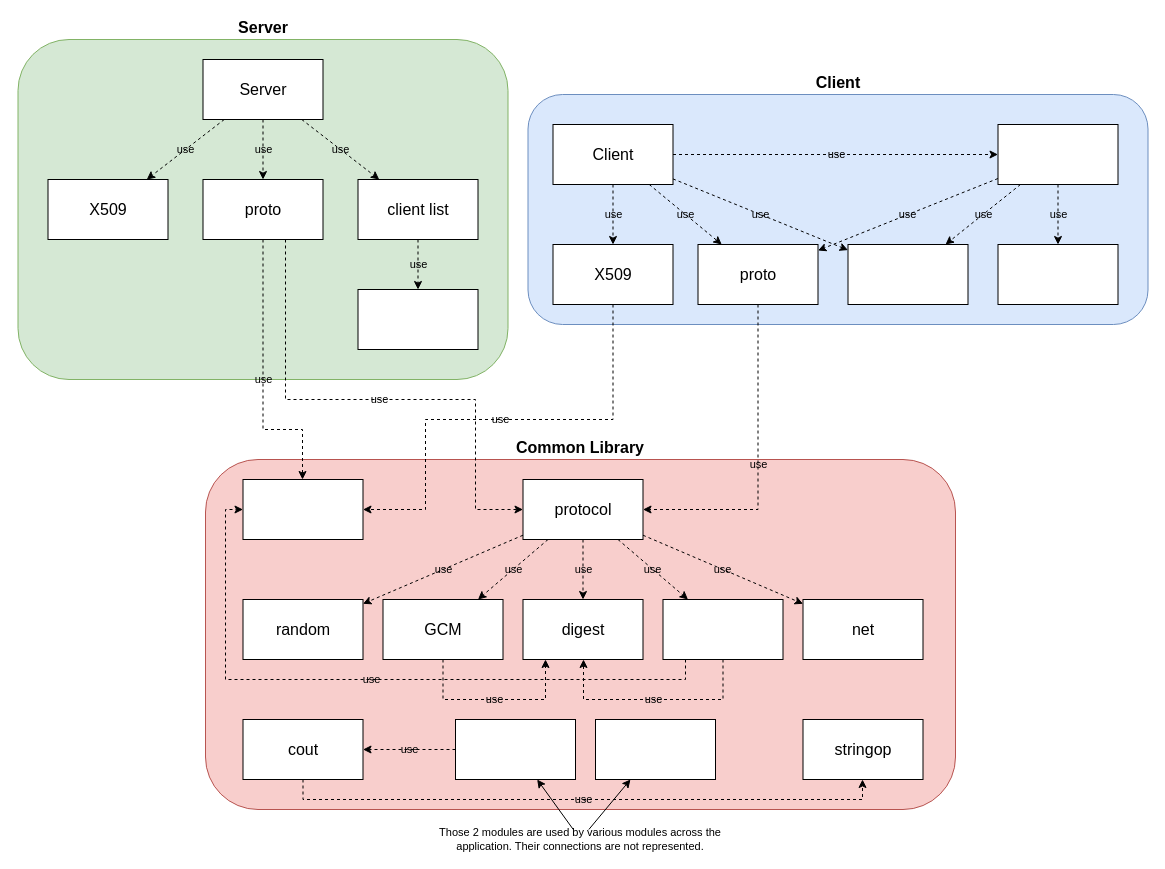
Some shapes in this 1165 by 869 pixel diagram are drawn without their labels. Each missing label, with the centre of its shape:
"cin" belongs at [907,274].
"connect 4" belongs at [1057,274].
"DH" belongs at [722,629].
"error" belongs at [515,749].
"game" belongs at [1057,154].
"list" belongs at [417,319].
"MEMDBG" belongs at [655,749].
"PEM" belongs at [302,509].
